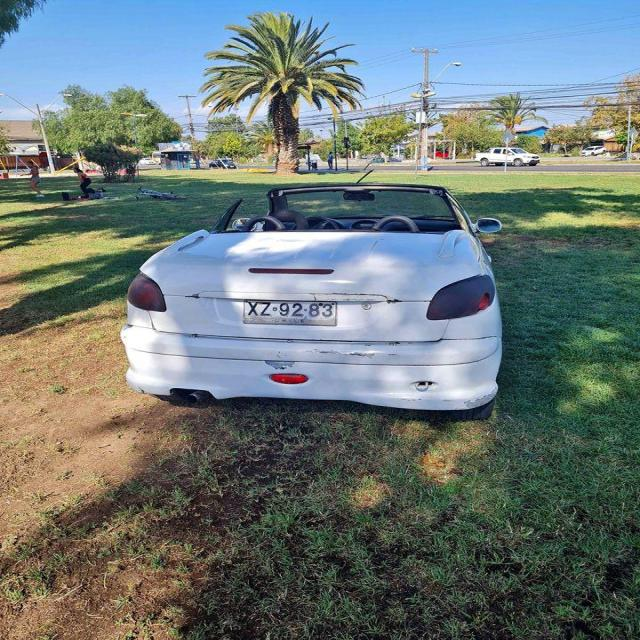patente: (241, 299, 337, 325)
